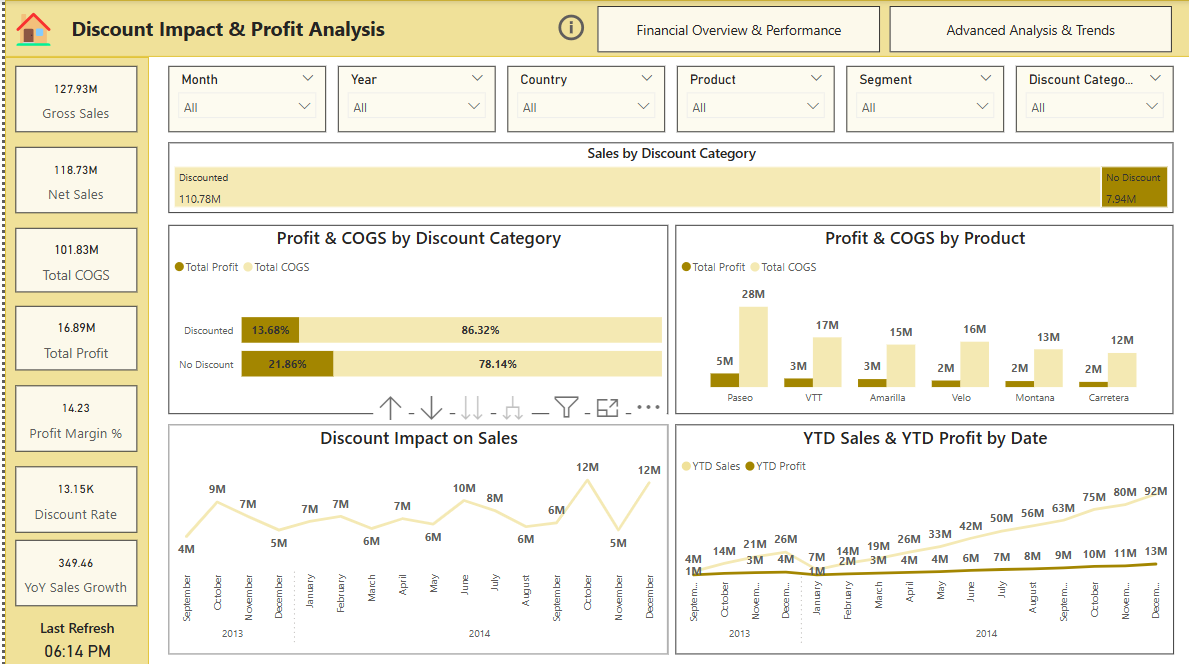

Layout of this report page (visuals, bound fields, positions):
{"tool":"powerbi","page":{"name":"Discount Impact & Profit Analysis","canvas":[1280,720],"ordinal":2},"visuals":[{"type":"shape","box":[0,0,1280.8,61.5],"z":0},{"type":"shape","box":[0,61,155.4,659],"z":1000},{"type":"textbox","box":[0,0,66.4,61.5],"z":2000},{"type":"actionButton","box":[0,0,66.4,61.5],"z":3000},{"type":"card","title":"Last Refresh","fields":{"Values":["Min(LocalTime.LocalTime)"]},"box":[0,667.1,155.4,52],"z":4000},{"type":"textbox","box":[66.4,0,375.7,61.5],"z":5000},{"type":"pageNavigator","box":[639.6,6.5,621.8,50.2],"z":6000},{"type":"slicer","fields":{"Values":["dim_date.Month"]},"box":[176.5,72,170,71.2],"z":7000},{"type":"slicer","fields":{"Values":["dim_date.Year"]},"box":[359.5,72,170,71.2],"z":8000},{"type":"slicer","fields":{"Values":["financials.Country"]},"box":[542.4,72,170,71.2],"z":9000},{"type":"slicer","fields":{"Values":["financials.Product"]},"box":[725.4,72,170,71.2],"z":10000},{"type":"slicer","fields":{"Values":["financials.Segment"]},"box":[908.4,72,170,71.2],"z":11000},{"type":"slicer","fields":{"Values":["financials.Discount Category"]},"box":[1091.4,72,170,71.2],"z":12000},{"type":"treemap","title":"Sales by Discount Category","fields":{"Values":["Measure.Net Sales"],"Group":["financials.Discount Category"]},"box":[176.5,153.8,1084.9,76.1],"z":13000},{"type":"card","fields":{"Values":["Measure.Gross Sales"]},"box":[11.3,71.2,131.2,71.2],"z":14000},{"type":"card","fields":{"Values":["Measure.Net Sales"]},"box":[11.3,158.4,131.2,71.2],"z":15000},{"type":"card","fields":{"Values":["Measure.Profit Margin %"]},"box":[11.3,416.4,131.2,71.2],"z":16000},{"type":"card","fields":{"Values":["Measure.Total Profit"]},"box":[11.3,330.9,131.2,69.6],"z":17000},{"type":"card","fields":{"Values":["Measure.Avg Discount"]},"box":[11.3,503.5,131.2,71.2],"z":18000},{"type":"hundredPercentStackedBarChart","title":"Profit & COGS by Discount Category","fields":{"Category":["financials.Discount Category"],"Y":["Measure.Total Profit","Measure.Total COGS"]},"box":[176.5,242.9,539.2,204],"z":19000},{"type":"lineChart","title":"Discount Impact on Sales","fields":{"Y":["Measure.Sales by Discount"],"Category":["dim_date.Date.Variation.Date Hierarchy.Year","dim_date.Date.Variation.Date Hierarchy.Month"]},"box":[176.5,458.2,539.2,247.7],"z":20000},{"type":"clusteredColumnChart","title":"Profit & COGS by Product","fields":{"Y":["Measure.Total Profit","Measure.Total COGS"],"Category":["financials.Product"]},"box":[723.8,242.9,537.6,204],"z":21000},{"type":"lineChart","title":"YTD Sales & YTD Profit by Date","fields":{"Category":["dim_date.Date.Variation.Date Hierarchy.Year","dim_date.Date.Variation.Date Hierarchy.Month"],"Y":["Measure.YTD Sales","Measure.YTD Profit"]},"box":[724,458,538,248],"z":22000},{"type":"card","fields":{"Values":["Measure.Total COGS"]},"box":[11.3,245.5,131.2,69.6],"z":24000},{"type":"actionButton","box":[592.6,9.7,37.2,40.5],"z":25000},{"type":"card","fields":{"Values":["Measure.YoY Sales Growth %"]},"box":[11.3,582.9,131.2,71.2],"z":25001}]}

Visuals, with their boxes in screenshot pixels (x1, y1, x2, y2), scaled from the page's 1280x720 canvas onto the 1189x664 screenshot:
shape: [left=0, top=0, right=1188, bottom=57]
shape: [left=0, top=56, right=144, bottom=663]
textbox: [left=0, top=0, right=62, bottom=57]
actionButton: [left=0, top=0, right=62, bottom=57]
"Last Refresh" card: [left=0, top=615, right=144, bottom=663]
textbox: [left=62, top=0, right=411, bottom=57]
pageNavigator: [left=594, top=6, right=1172, bottom=52]
slicer - dim_date.Month: [left=164, top=66, right=322, bottom=132]
slicer - dim_date.Year: [left=334, top=66, right=492, bottom=132]
slicer - financials.Country: [left=504, top=66, right=662, bottom=132]
slicer - financials.Product: [left=674, top=66, right=832, bottom=132]
slicer - financials.Segment: [left=844, top=66, right=1002, bottom=132]
slicer - financials.Discount Category: [left=1014, top=66, right=1172, bottom=132]
"Sales by Discount Category" treemap: [left=164, top=142, right=1172, bottom=212]
card - Measure.Gross Sales: [left=10, top=66, right=132, bottom=131]
card - Measure.Net Sales: [left=10, top=146, right=132, bottom=212]
card - Measure.Profit Margin %: [left=10, top=384, right=132, bottom=450]
card - Measure.Total Profit: [left=10, top=305, right=132, bottom=369]
card - Measure.Avg Discount: [left=10, top=464, right=132, bottom=530]
"Profit & COGS by Discount Category" hundredPercentStackedBarChart: [left=164, top=224, right=665, bottom=412]
"Discount Impact on Sales" lineChart: [left=164, top=423, right=665, bottom=651]
"Profit & COGS by Product" clusteredColumnChart: [left=672, top=224, right=1172, bottom=412]
"YTD Sales & YTD Profit by Date" lineChart: [left=673, top=422, right=1172, bottom=651]
card - Measure.Total COGS: [left=10, top=226, right=132, bottom=291]
actionButton: [left=550, top=9, right=585, bottom=46]
card - Measure.YoY Sales Growth %: [left=10, top=538, right=132, bottom=603]
